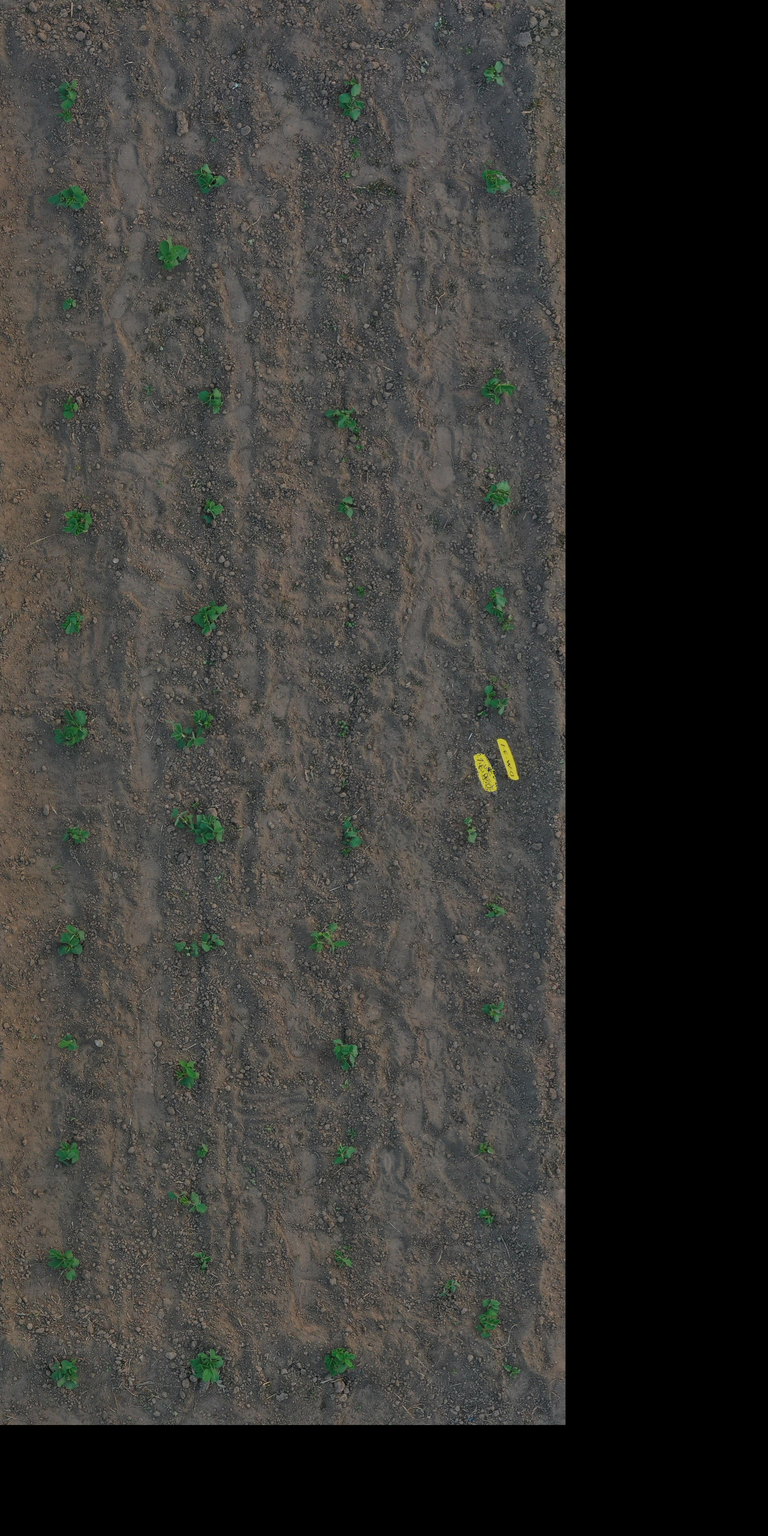s: (168, 1190, 208, 1214), (171, 808, 203, 837), (170, 724, 206, 749), (308, 932, 349, 953), (63, 708, 88, 740), (338, 84, 367, 110), (166, 235, 190, 261), (481, 1000, 504, 1023), (189, 1354, 210, 1379), (201, 501, 223, 524), (58, 932, 80, 955), (333, 1143, 356, 1165), (197, 388, 222, 408), (192, 607, 219, 625), (339, 99, 361, 121), (193, 823, 215, 845), (323, 1354, 344, 1377), (156, 240, 177, 263), (192, 709, 209, 737), (310, 922, 338, 939), (62, 184, 83, 206), (51, 1360, 73, 1381), (56, 1369, 78, 1390), (201, 1348, 222, 1370), (205, 819, 225, 842), (198, 600, 228, 615), (57, 79, 78, 100), (61, 1257, 80, 1280), (179, 1063, 195, 1090), (69, 189, 89, 210), (438, 1280, 461, 1298), (337, 496, 354, 520), (341, 1044, 358, 1068), (488, 586, 507, 607), (54, 1148, 76, 1166), (337, 406, 354, 429), (54, 1250, 74, 1269), (336, 1351, 356, 1370), (47, 191, 69, 208), (478, 1314, 501, 1330), (485, 600, 504, 619), (192, 163, 212, 181), (65, 924, 86, 941), (58, 1034, 79, 1051), (486, 180, 511, 194), (489, 697, 508, 715), (333, 1250, 352, 1268), (482, 1298, 500, 1317), (58, 90, 75, 110), (484, 60, 504, 77), (480, 388, 500, 405), (202, 172, 226, 186), (47, 1248, 63, 1269), (174, 940, 199, 953), (60, 615, 77, 634), (60, 1141, 79, 1158), (62, 522, 85, 536), (480, 377, 502, 391), (198, 618, 216, 635), (72, 827, 90, 844), (486, 490, 505, 506), (61, 826, 80, 842), (484, 903, 504, 918), (342, 820, 358, 838), (180, 1060, 196, 1078), (332, 1039, 350, 1055), (201, 1367, 219, 1383), (196, 813, 218, 826), (336, 1051, 351, 1070), (492, 383, 512, 397), (62, 402, 78, 419), (53, 728, 70, 744), (478, 1208, 494, 1225), (483, 484, 498, 502), (64, 508, 79, 526), (484, 685, 496, 707), (342, 835, 362, 848), (198, 177, 213, 194), (481, 169, 504, 180), (490, 177, 509, 190), (331, 1348, 346, 1364), (160, 258, 180, 270), (56, 109, 73, 123), (496, 481, 510, 498), (465, 826, 478, 844), (193, 1252, 212, 1264), (66, 730, 82, 744), (64, 611, 84, 622), (486, 74, 504, 86), (212, 396, 224, 414), (477, 1324, 491, 1338), (62, 297, 77, 310), (78, 512, 92, 525), (210, 934, 225, 946), (196, 1143, 208, 1158), (324, 408, 341, 418), (204, 713, 214, 729), (201, 942, 216, 952), (343, 418, 357, 428), (186, 948, 199, 958), (68, 1361, 78, 1374), (71, 944, 83, 954), (463, 816, 473, 828), (63, 396, 72, 408), (70, 1152, 79, 1164), (348, 826, 361, 833), (175, 1071, 186, 1079), (74, 622, 81, 634), (202, 932, 209, 944), (336, 730, 346, 738), (204, 500, 211, 511), (342, 780, 350, 788), (486, 902, 494, 909), (345, 621, 354, 627), (341, 721, 347, 728), (338, 720, 344, 725), (343, 726, 348, 730)
